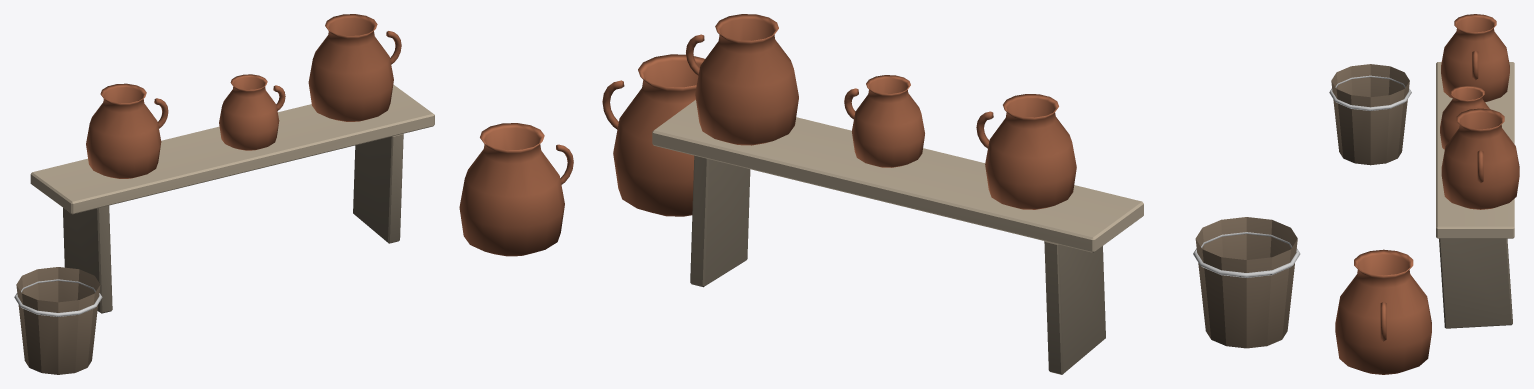
Rendered from bench_pots.glb.
3 renders of one model, left to right at view 1: azimuth 30°, elevation 25°; view 2: azimuth 150°, elevation 25°; view 3: azimuth 270°, elevation 25°, orthographic. The views are drawn at different scales.
Visible parts, largest first — view 1: bench_pots; view 2: bench_pots; view 3: bench_pots.
Boxes of the visible parts, x1,y1,x2,y2 form: bench_pots: [14, 14, 573, 374]; bench_pots: [602, 14, 1300, 374]; bench_pots: [1329, 14, 1519, 374].
Size of what is drawn, in the model's own units: 2.31 by 0.8271 by 0.7272.
